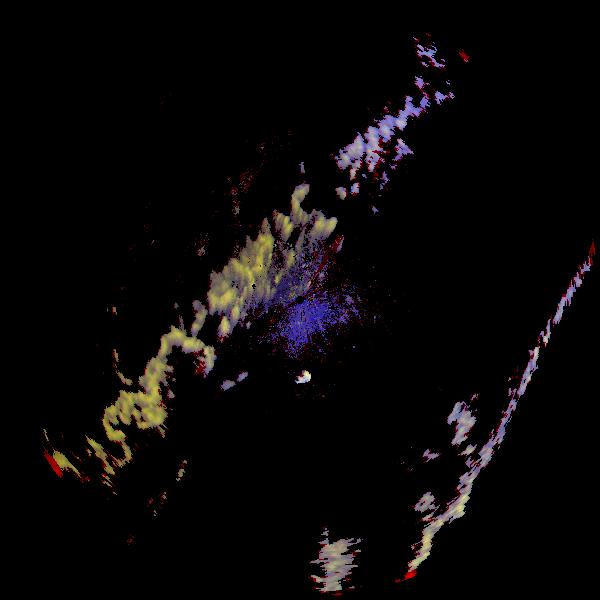roost: (290, 362, 314, 386)
